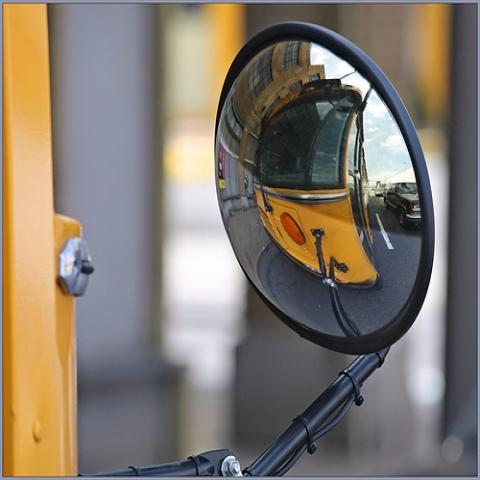bus: (254, 84, 380, 283)
car: (374, 188, 384, 197)
truck: (383, 181, 422, 229)
